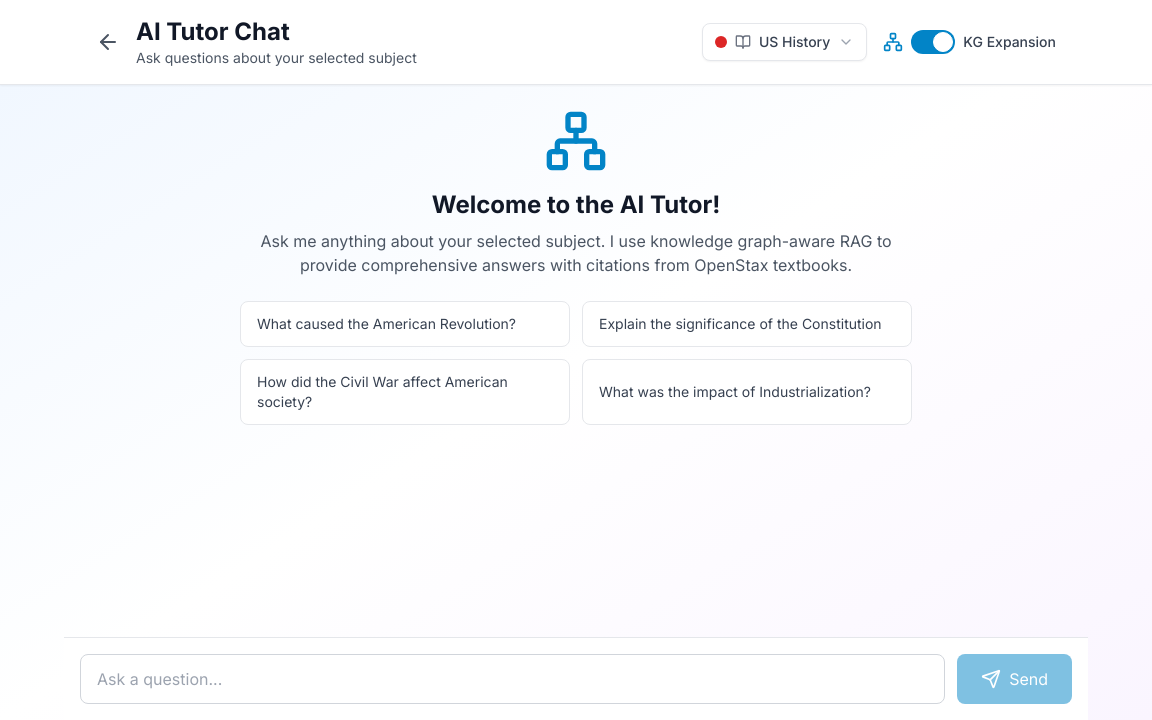
Test: ChatPage › Sending Messages › displays assistant response after receiving
The width and height of the screenshot is (1152, 720).
Type "My question" into the field with placeholder "Ask a question...".
click(513, 679); type("My question")  # box [80,654,945,704]
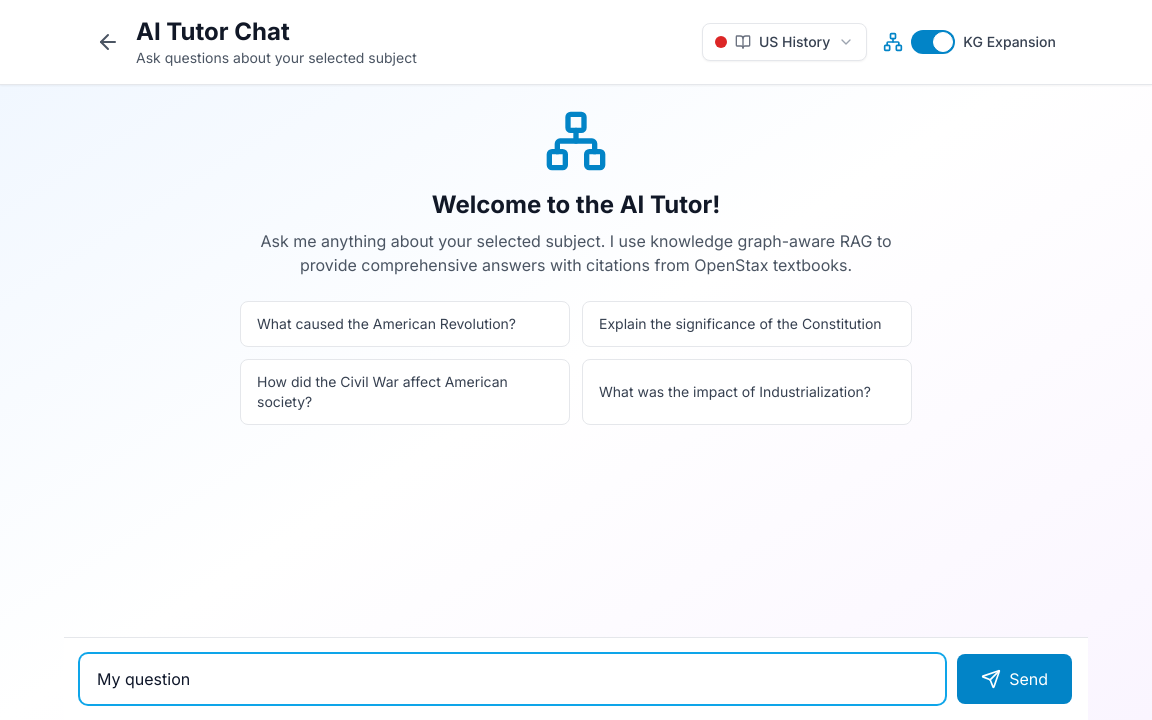
Submit the form with placeholder "Ask a question", box [80,654,1072,704]
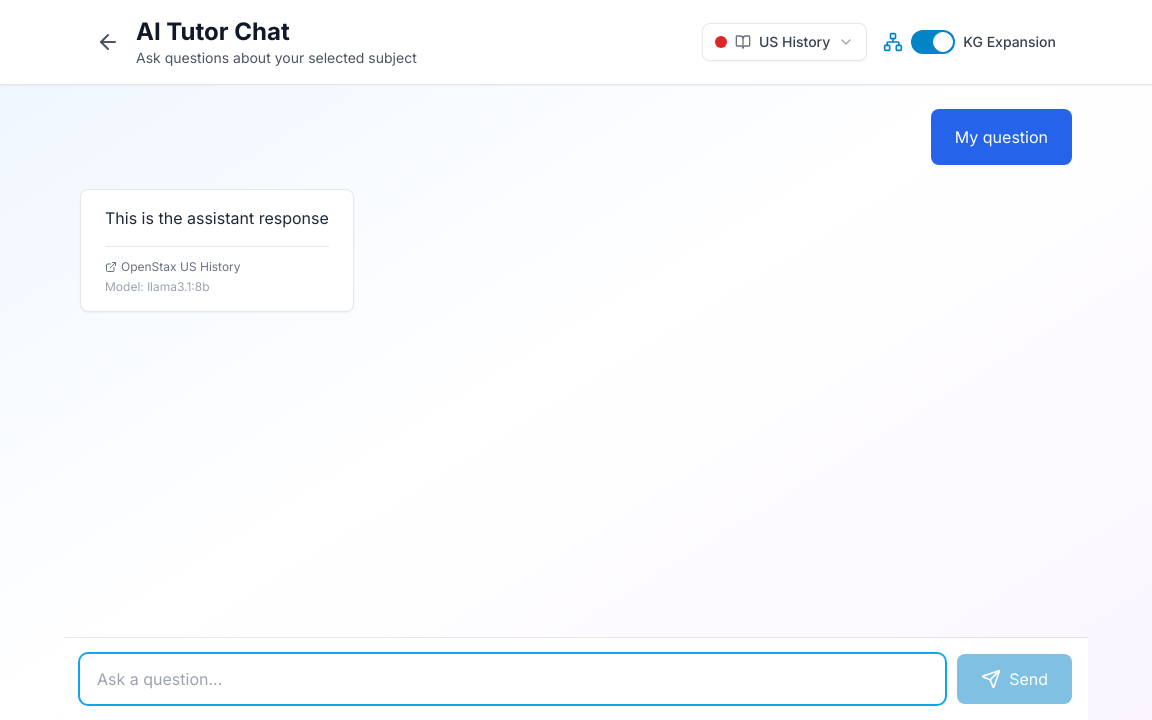
Result: the text "This is the assistant response" is shown at [105,206,329,230]
